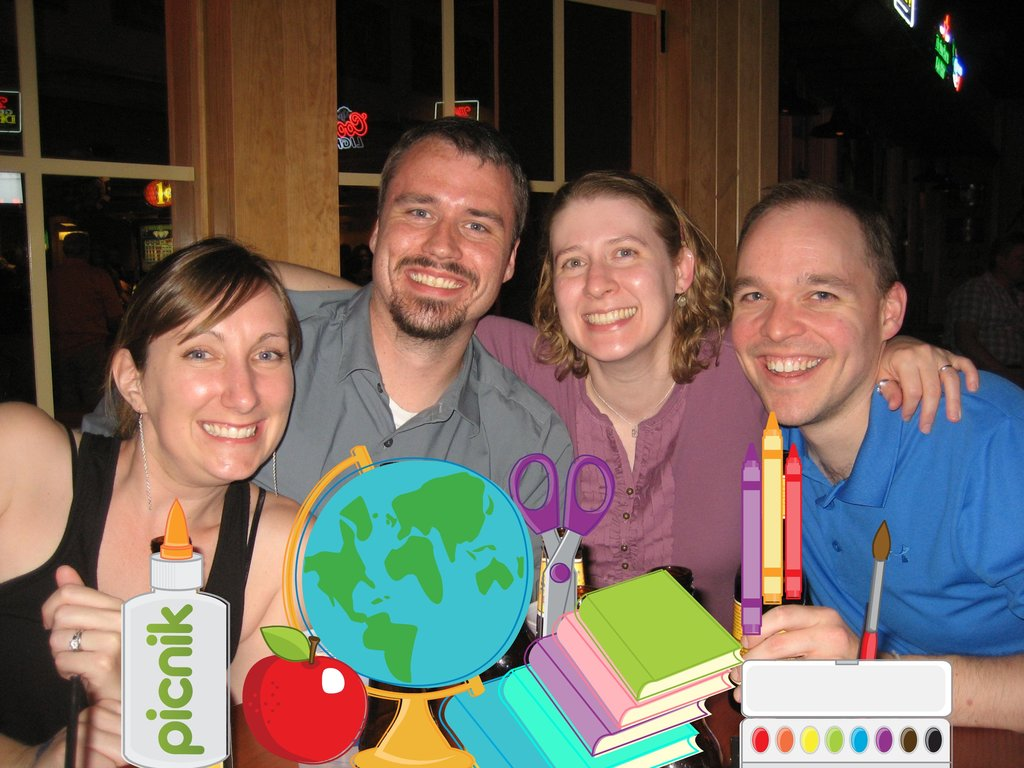Apple: (241, 637, 371, 767)
